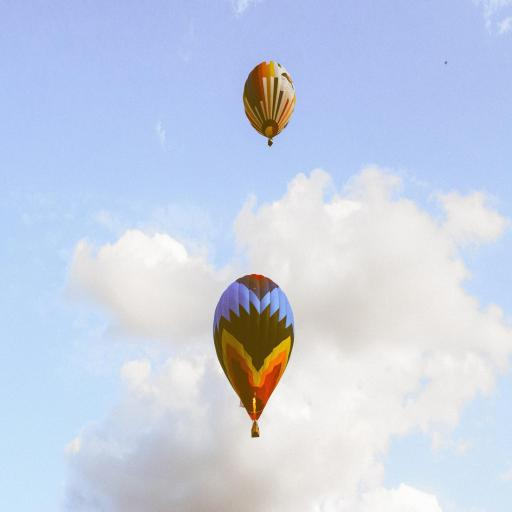hot air ballon: (213, 275, 294, 438), (243, 61, 296, 147)
